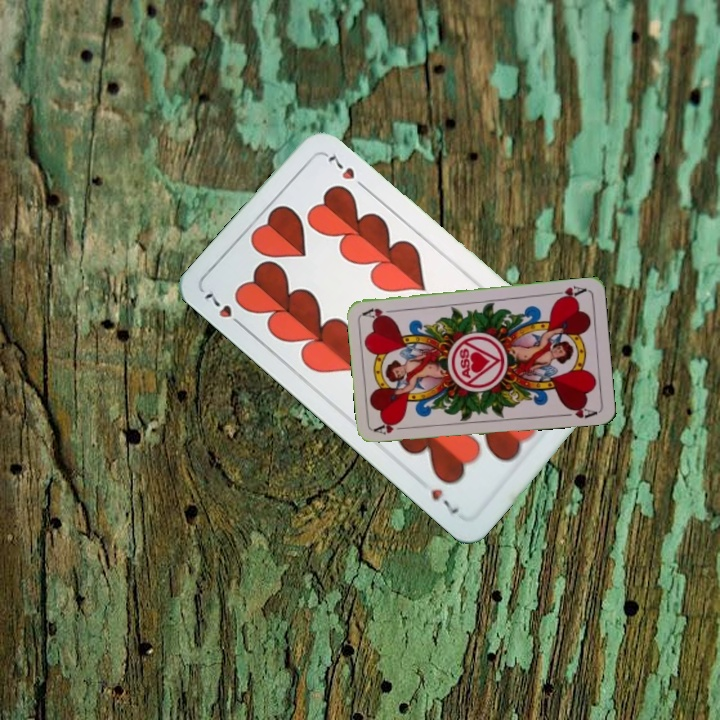H7: (200, 289, 248, 331)
HA: (548, 282, 589, 303), (371, 418, 412, 437)
